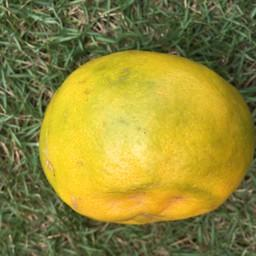Good_orange: (30, 46, 256, 224)
